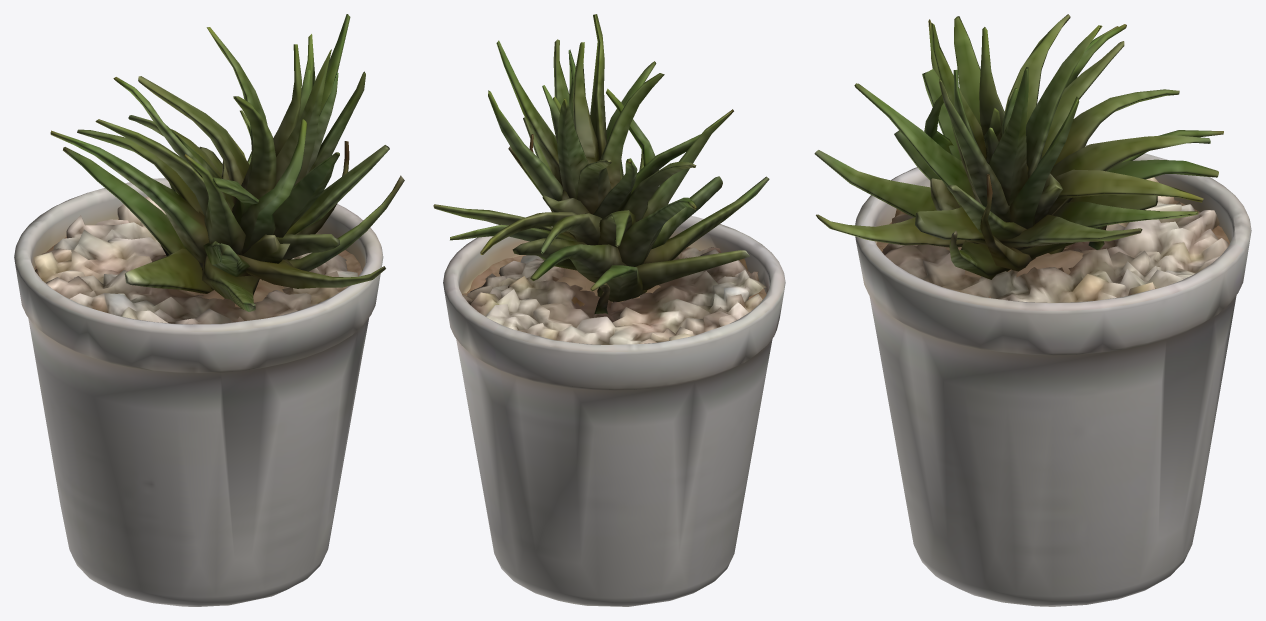
The model's file is ph_potted_plant_04.glb.
3 views of the same model, side by side, from view 1: azimuth 30°, elevation 25°; view 2: azimuth 150°, elevation 25°; view 3: azimuth 270°, elevation 25° (orthographic). The views are drawn at different scales.
Parts seen in each view (by area): view 1: potted_plant_04_ground; view 2: potted_plant_04_ground; view 3: potted_plant_04_ground.
Boxes of the visible parts, x1,y1,x2,y2 form: potted_plant_04_ground: (14, 14, 404, 606); potted_plant_04_ground: (433, 14, 785, 606); potted_plant_04_ground: (814, 14, 1251, 606).
Bounding box in the file's own units: 0.1679 × 0.2672 × 0.1848.
1 material, 1 textured.
